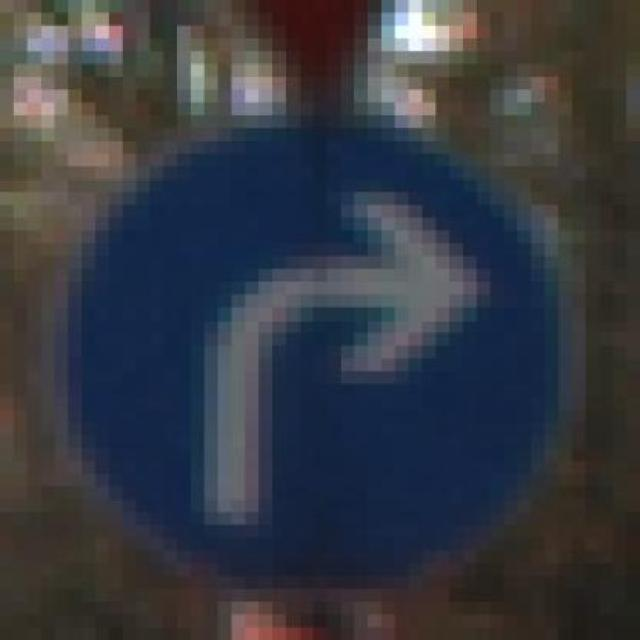Turn right ahead: (49, 77, 594, 589)
